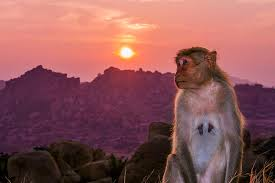monkey: (69, 25, 275, 183)
